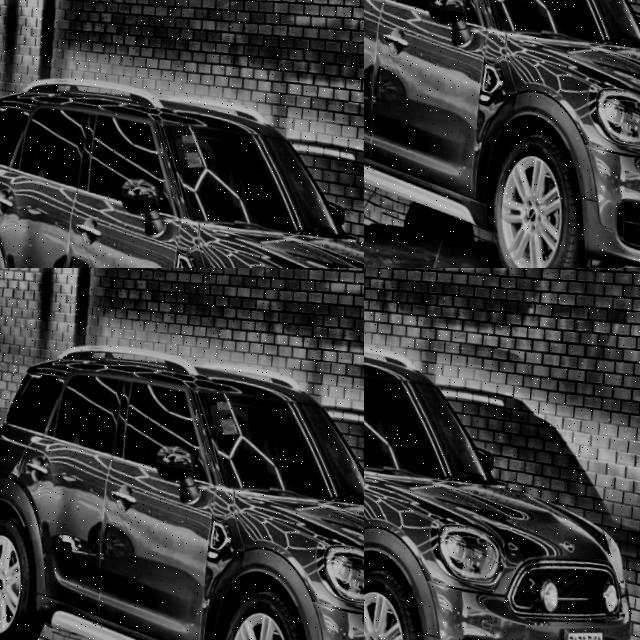license-plate: (553, 620, 601, 640)
